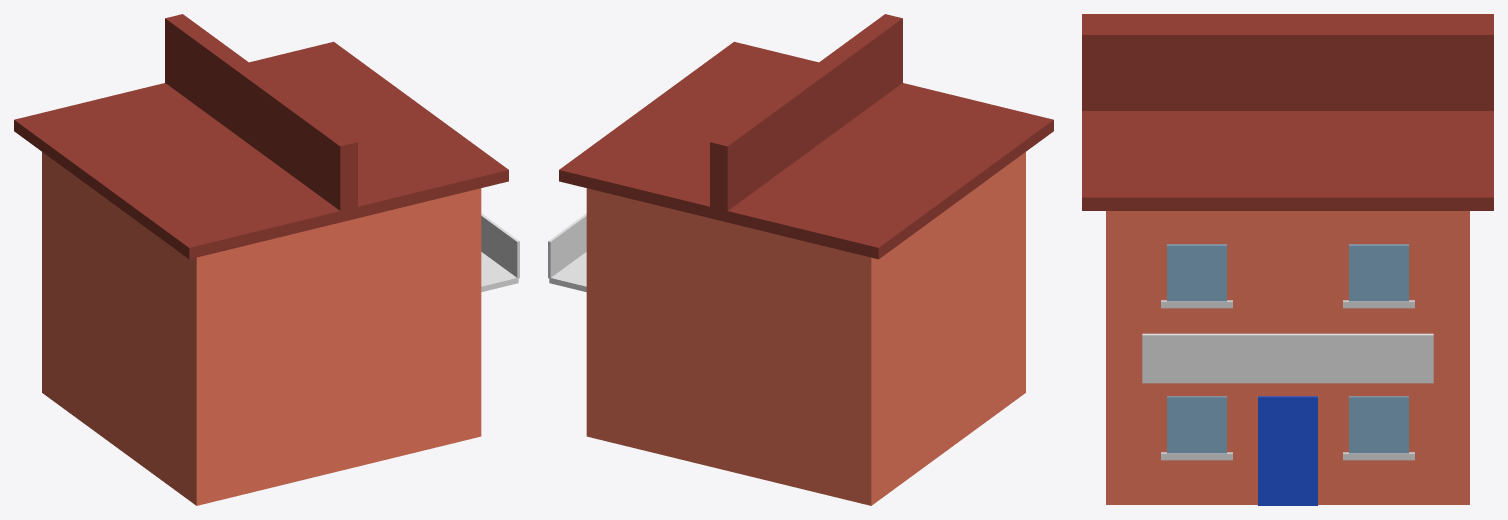
The model's file is casa_playa_4.obj.
3 renders of one model, left to right at view 1: azimuth 30°, elevation 25°; view 2: azimuth 150°, elevation 25°; view 3: azimuth 270°, elevation 25°, orthographic. The views are drawn at different scales.
Visible parts, largest first — view 1: casa_playa_4; view 2: casa_playa_4; view 3: casa_playa_4.
Boxes of the visible parts, x1,y1,x2,y2 form: casa_playa_4: (14,14,519,505); casa_playa_4: (548,14,1053,505); casa_playa_4: (1082,14,1493,505).
Size of the model in its own units: 8.09 by 7.25 by 6.88.
